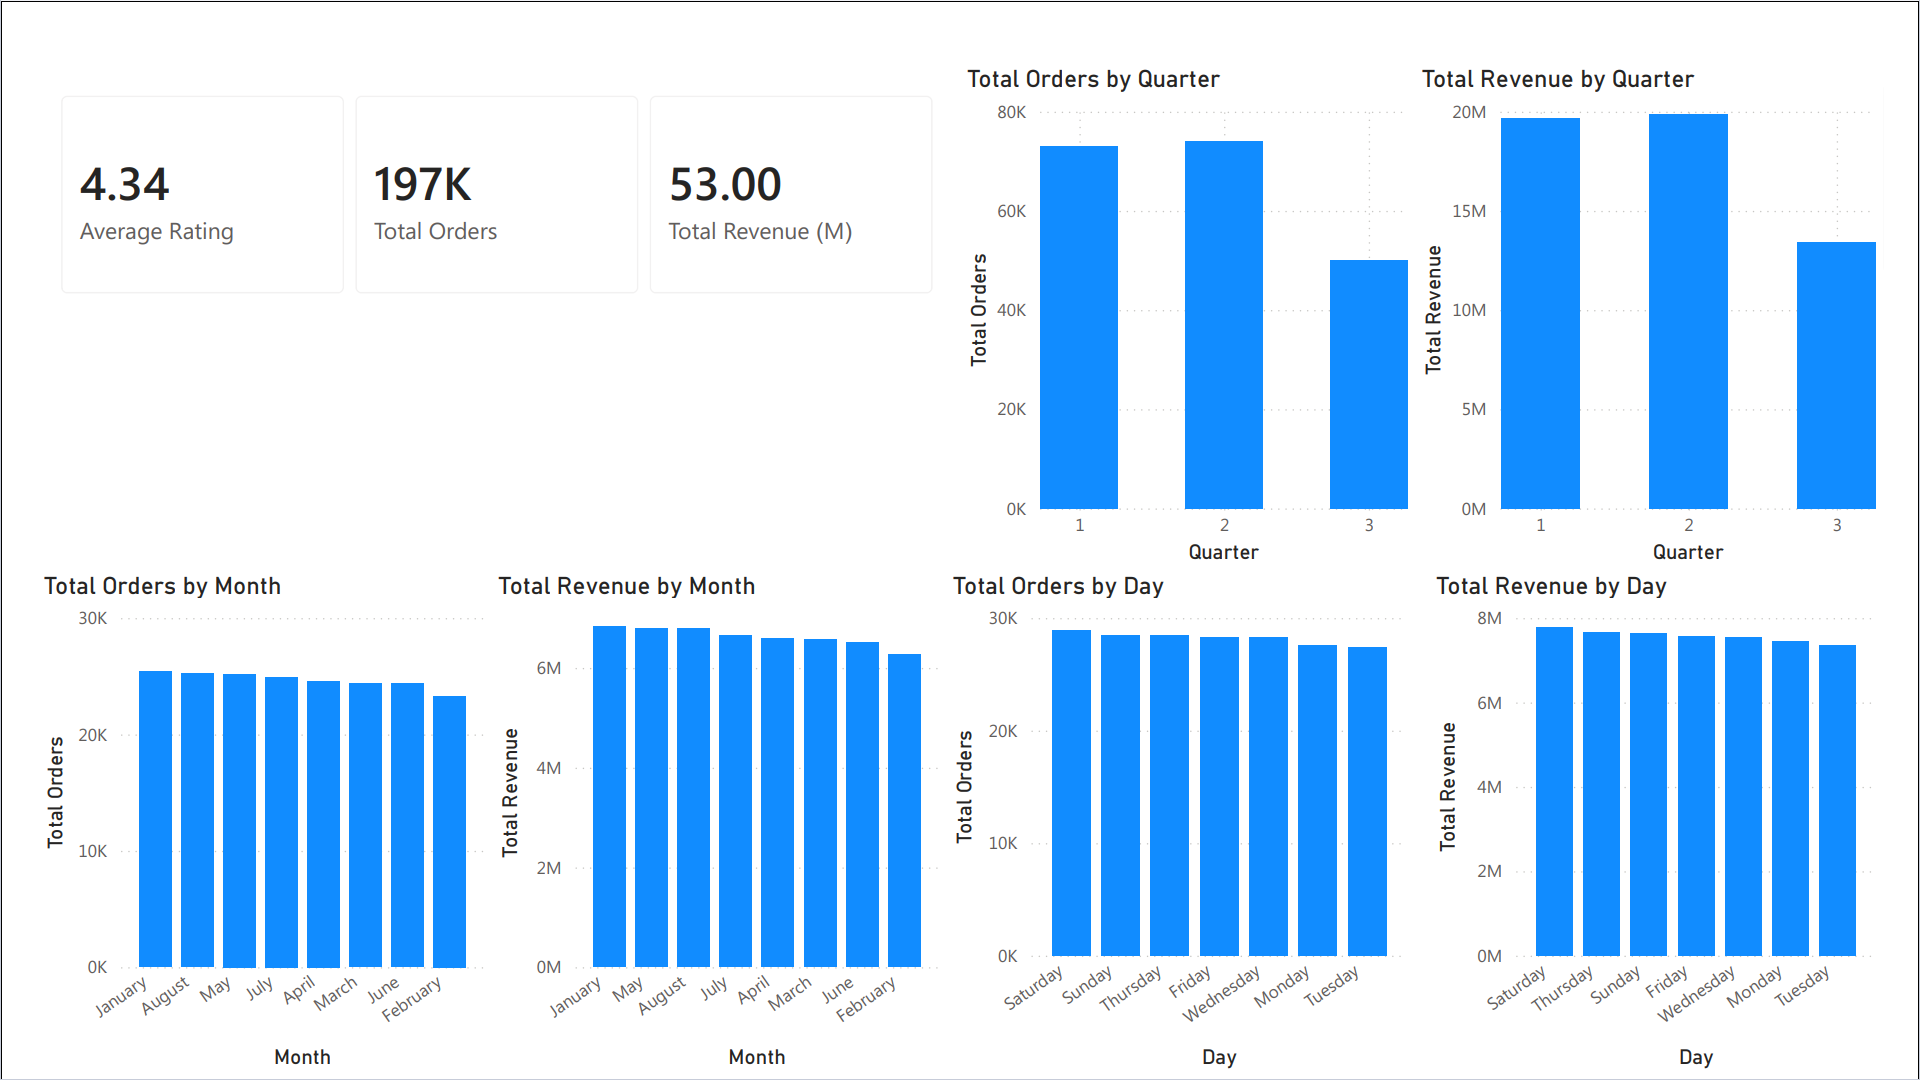

This screenshot's page, from the dashboard's own definition file:
{"tool":"powerbi","page":{"name":"Time Analysis","canvas":[1280,720],"ordinal":0},"visuals":[{"type":"clusteredColumnChart","fields":{"Y":["Sum(Query1.Monthly Total Orders)"],"Category":["monthly_trends.month_name"]},"box":[0,369.6,315.1,350.2],"z":0},{"type":"clusteredColumnChart","fields":{"Category":["monthly_trends.month_name"],"Y":["Sum(monthly_trends.Monthly Total Revenue)"]},"box":[315.1,369.6,315.1,350.2],"z":1000},{"type":"clusteredColumnChart","fields":{"Y":["Sum(quarterly_trends.Quarterly Total Orders)"],"Category":["quarterly_trends.quarter"]},"box":[640,19.5,315.1,350.2],"z":2000},{"type":"clusteredColumnChart","fields":{"Y":["Sum(quarterly_trends.Quarterly Total Revenue)"],"Category":["quarterly_trends.quarter"]},"box":[955.1,19.5,324.9,350.2],"z":3000},{"type":"clusteredColumnChart","fields":{"Category":["daywise_trends.Day Name"],"Y":["Sum(daywise_trends.Day-wise Total Orders)"]},"box":[630.3,369.6,324.9,350.2],"z":4000},{"type":"clusteredColumnChart","fields":{"Category":["daywise_trends.Day Name"],"Y":["Sum(daywise_trends.Day-wise Total Revenue)"]},"box":[964.9,369.6,315.1,350.2],"z":5000},{"type":"cardVisual","fields":{"Data":["Sum(yearly_trends.Avg_Rating)","Sum(yearly_trends.Total Orders)","Sum(yearly_trends.Total Revenue in Millions)"]},"box":[0,24.3,640,170.2],"z":6000}]}

Visuals, with their boxes in screenshot pixels (x1, y1, x2, y2), scaled from the page's 1280x720 canvas onto the 1920x1080 screenshot:
clusteredColumnChart - Sum(Query1.Monthly Total Orders) x monthly_trends.month_name: detection(0, 554, 473, 1079)
clusteredColumnChart - monthly_trends.month_name x Sum(monthly_trends.Monthly Total Revenue): detection(473, 554, 945, 1079)
clusteredColumnChart - Sum(quarterly_trends.Quarterly Total Orders) x quarterly_trends.quarter: detection(960, 29, 1433, 555)
clusteredColumnChart - Sum(quarterly_trends.Quarterly Total Revenue) x quarterly_trends.quarter: detection(1433, 29, 1919, 555)
clusteredColumnChart - daywise_trends.Day Name x Sum(daywise_trends.Day-wise Total Orders): detection(945, 554, 1433, 1079)
clusteredColumnChart - daywise_trends.Day Name x Sum(daywise_trends.Day-wise Total Revenue): detection(1447, 554, 1919, 1079)
cardVisual - Sum(yearly_trends.Avg_Rating) x Sum(yearly_trends.Total Orders): detection(0, 36, 960, 292)
